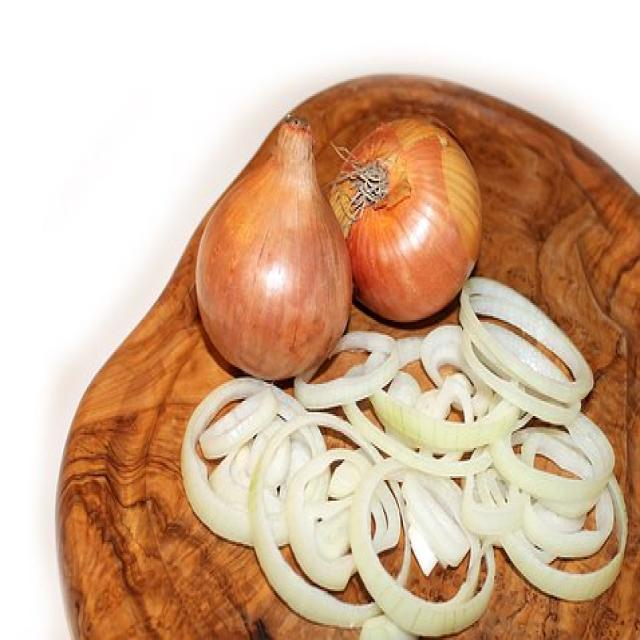Onion: (195, 117, 353, 379), (331, 119, 482, 321)
